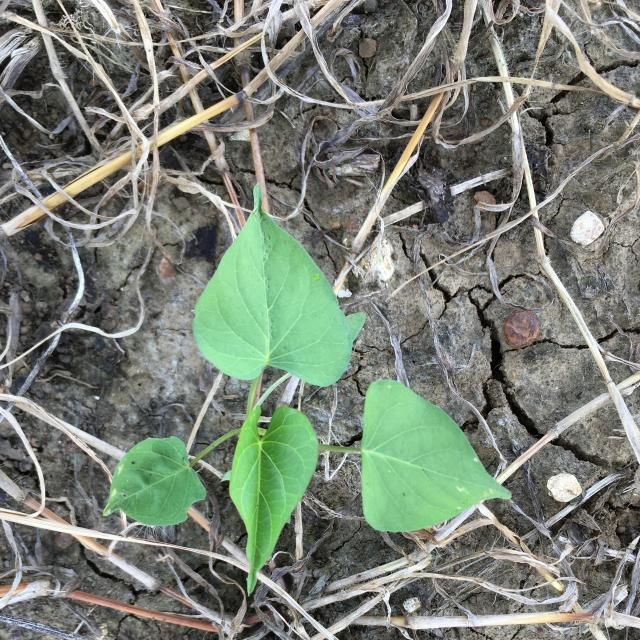MorningGlory: (102, 184, 513, 597)
